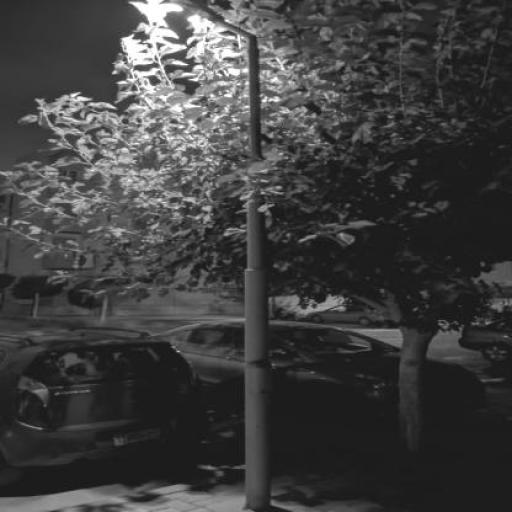street light: (155, 1, 274, 510)
